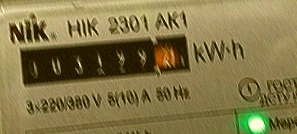0: (51, 54, 64, 74), (28, 57, 39, 75)
1: (95, 48, 105, 66)
3: (73, 52, 85, 73)
6: (161, 51, 172, 66)
9: (116, 45, 127, 66), (138, 46, 149, 64)
screen: (13, 24, 198, 91)
